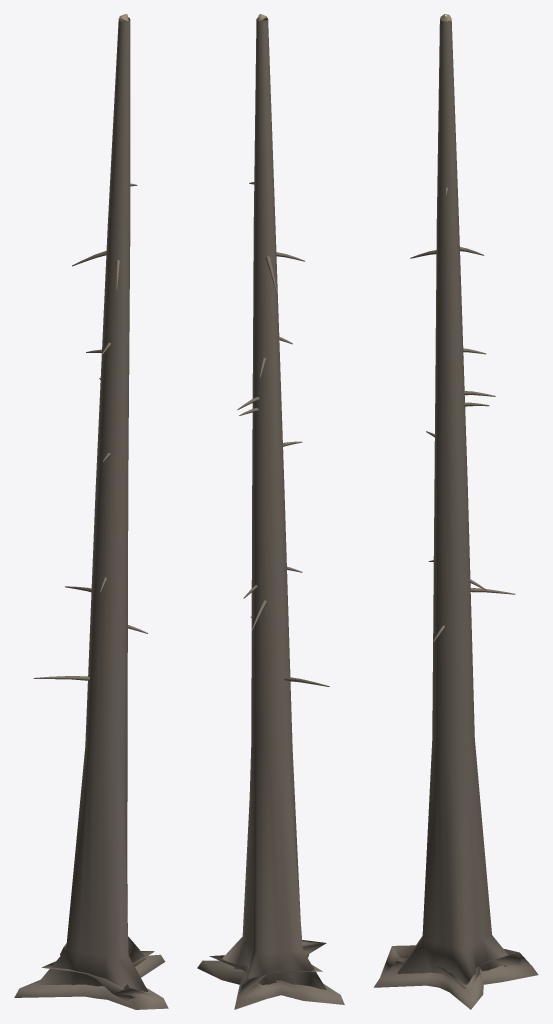
File: snag_tall.glb
3 views of the same model, side by side, from view 1: azimuth 30°, elevation 25°; view 2: azimuth 150°, elevation 25°; view 3: azimuth 270°, elevation 25° (orthographic).
Parts seen in each view (by area): view 1: snag_tall; view 2: snag_tall; view 3: snag_tall.
Part boxes in pixels (x1,y1,x2,y2): snag_tall: (14, 14, 168, 1009); snag_tall: (197, 14, 344, 1009); snag_tall: (373, 14, 538, 1009).
Size of the model in its own units: 3.17 by 19.49 by 3.01.
